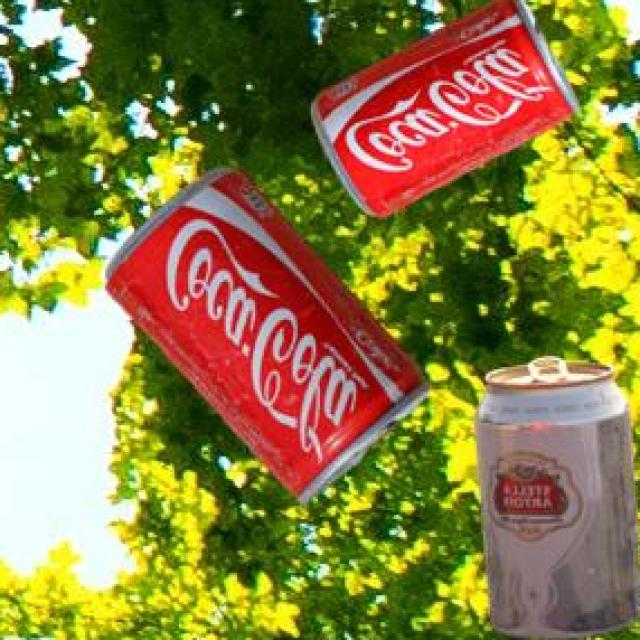logam: (111, 164, 433, 500), (314, 0, 583, 214), (478, 355, 640, 637)
